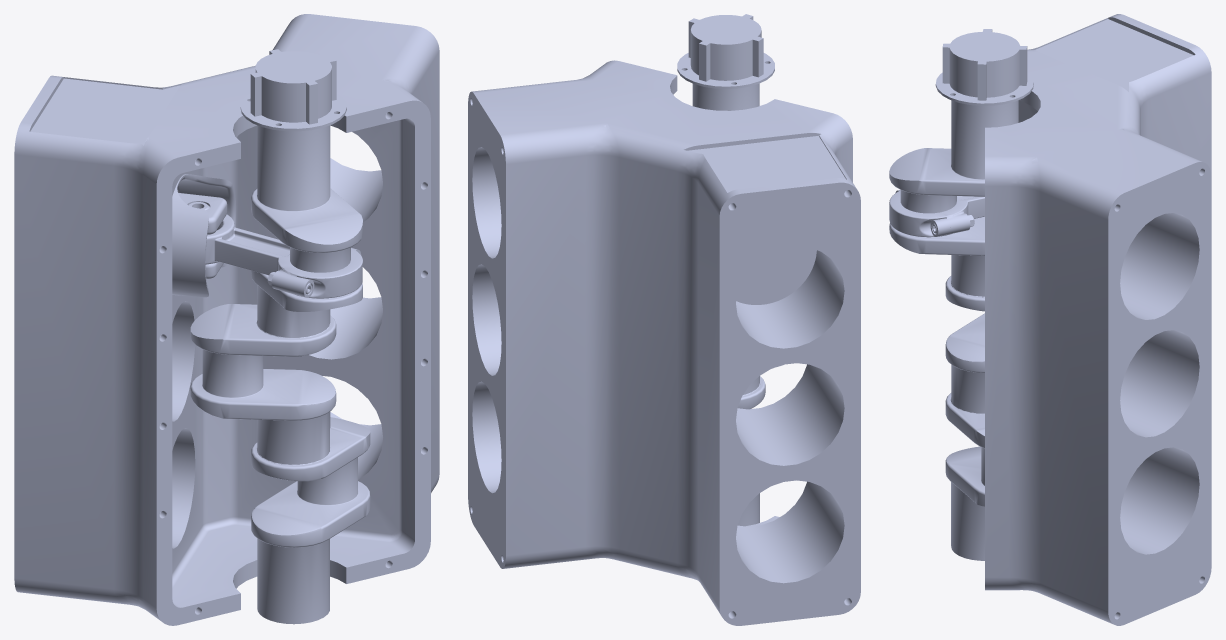
Rendered from gamme1.fbx.
3 renders of one model, left to right at view 1: azimuth 30°, elevation 25°; view 2: azimuth 150°, elevation 25°; view 3: azimuth 270°, elevation 25°, orthographic. The views are drawn at different scales.
Parts seen in each view (by area): view 1: block_moteur, crank_shaft, piston_head, piston_rod, piston_cap_rod; view 2: block_moteur, crank_shaft, piston_head; view 3: block_moteur, crank_shaft, piston_cap_rod, piston_rod.
Boxes of the visible parts, x1=… form: block_moteur: x1=14, y1=14, x2=439, y2=625; crank_shaft: x1=190, y1=49, x2=370, y2=624; piston_head: x1=172, y1=174, x2=236, y2=297; piston_rod: x1=205, y1=214, x2=303, y2=295; piston_cap_rod: x1=292, y1=248, x2=362, y2=298; block_moteur: x1=468, y1=60, x2=860, y2=625; crank_shaft: x1=677, y1=14, x2=783, y2=526; piston_head: x1=736, y1=246, x2=816, y2=304; block_moteur: x1=985, y1=14, x2=1211, y2=625; crank_shaft: x1=889, y1=29, x2=1033, y2=560; piston_cap_rod: x1=889, y1=190, x2=950, y2=237; piston_rod: x1=941, y1=196, x2=984, y2=235.
Bounding box in the file's own units: 51.19 × 62.29 × 36.37.
